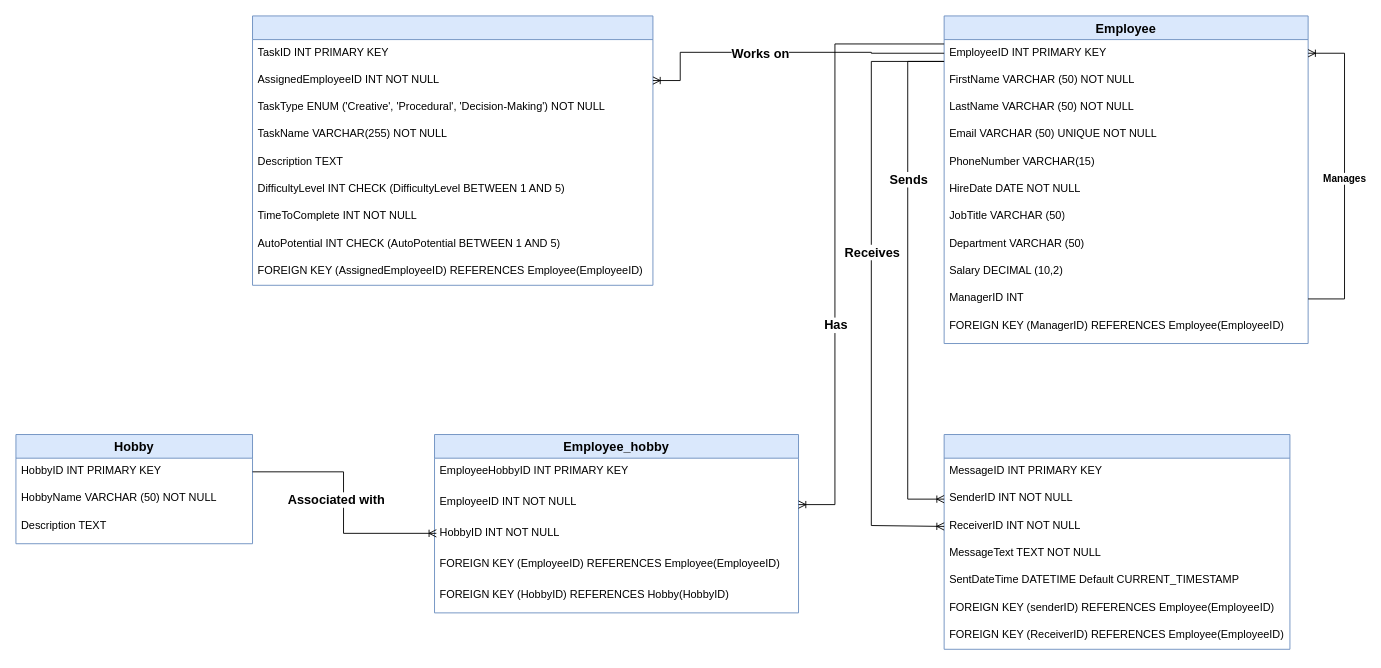
The diagram is 1381 pixels wide and 668 high, and some of its shapes have lost their labels. The box of each missing label's shape, as (x1, y1, x2, y2) in pixels:
Messages: (943, 434, 1290, 649)
Tasks: (252, 15, 653, 285)
